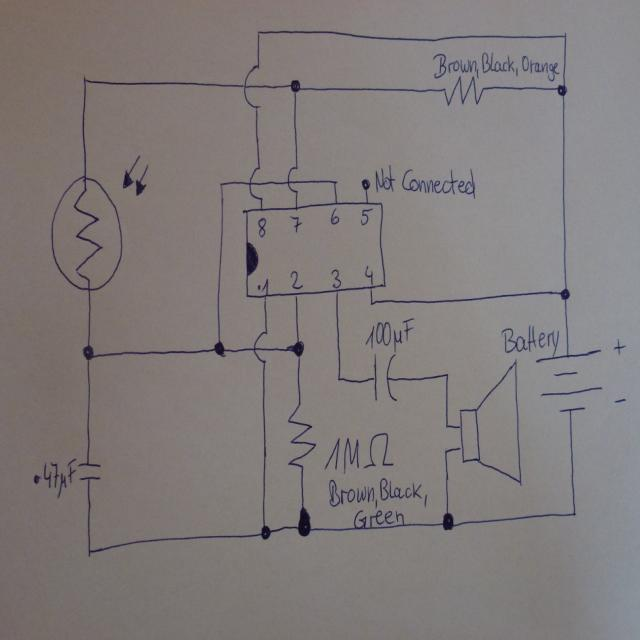capacitor: (368, 348, 402, 406), (75, 458, 101, 486)
crossover: (242, 61, 269, 111), (247, 162, 268, 200), (251, 330, 271, 366), (285, 163, 299, 194)
junction: (292, 506, 314, 544), (79, 340, 97, 363), (290, 338, 306, 360), (288, 75, 304, 97), (257, 519, 272, 542), (440, 509, 454, 532), (211, 338, 227, 358), (251, 22, 267, 41), (554, 80, 569, 98), (557, 284, 572, 301), (79, 72, 89, 87), (84, 545, 94, 559), (334, 372, 343, 383), (442, 369, 451, 379), (570, 508, 578, 518), (560, 30, 568, 40), (217, 178, 224, 189), (368, 299, 376, 307), (442, 446, 449, 455), (443, 421, 449, 430), (332, 178, 338, 186)
resistor: (49, 152, 151, 293), (285, 399, 315, 471), (436, 74, 486, 109)
source: (531, 346, 605, 418)
terminal: (359, 176, 371, 193)
text: (325, 465, 428, 511), (373, 160, 477, 200), (321, 432, 401, 479), (426, 51, 561, 78), (500, 325, 560, 355), (363, 319, 415, 349), (37, 459, 74, 499), (352, 506, 406, 526), (289, 268, 304, 292), (329, 266, 343, 290), (256, 215, 267, 237), (289, 212, 301, 232), (255, 279, 269, 293), (360, 207, 370, 226), (364, 264, 374, 280), (331, 206, 339, 224)
